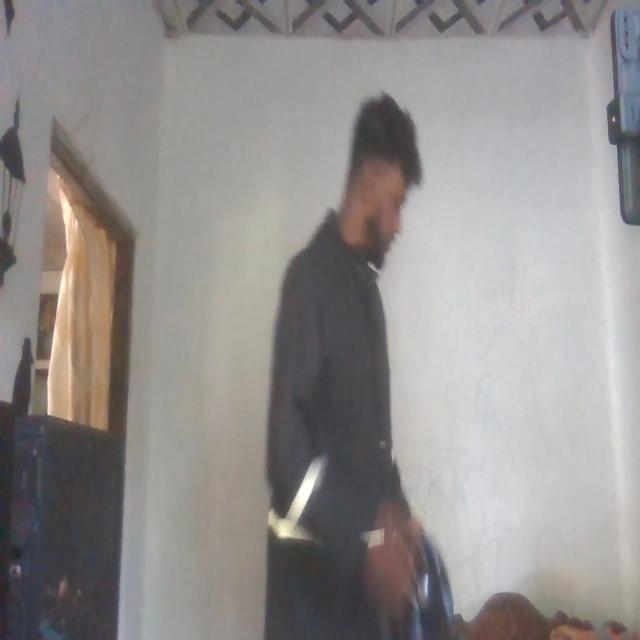Jacket_Wearer: (266, 212, 409, 640)
Person: (260, 77, 444, 640)
